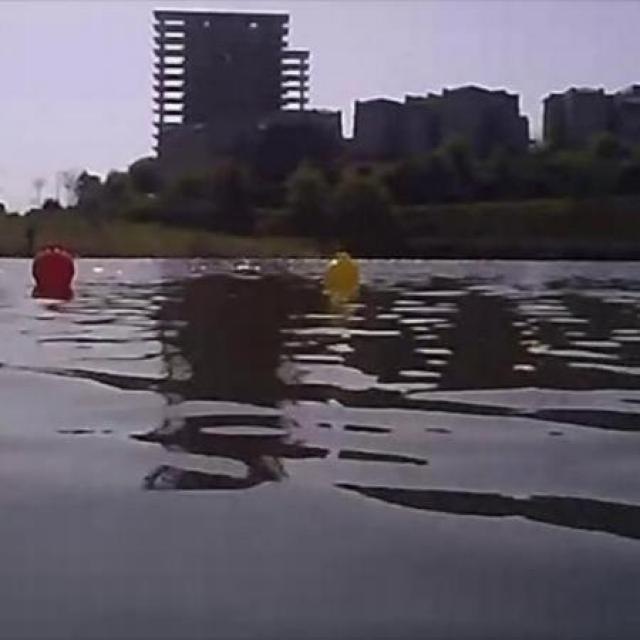buoy: (29, 243, 76, 295), (318, 250, 358, 294)
